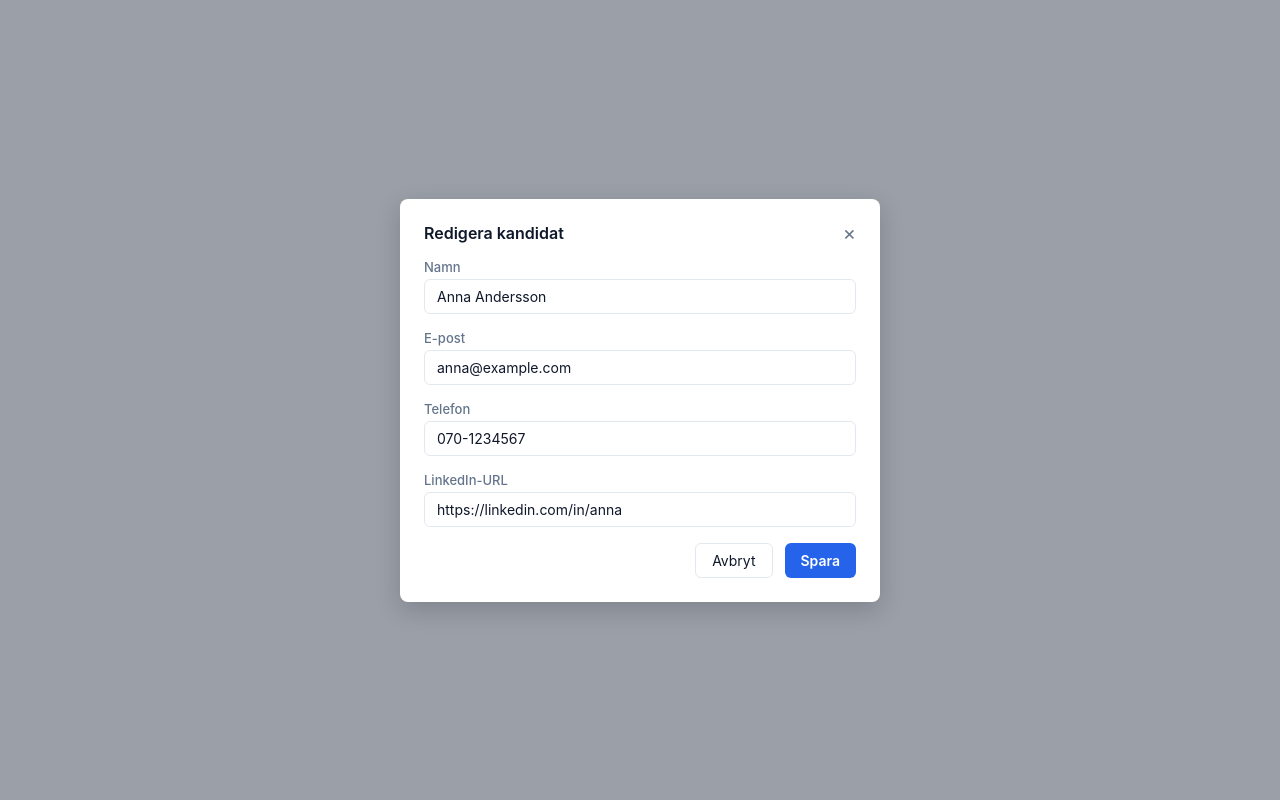
Test: EditCandidateModal › shows an inline error and keeps the modal open on failure
The width and height of the screenshot is (1280, 800).
Click the button "Spara" at (820,560), box [784,542,856,578]
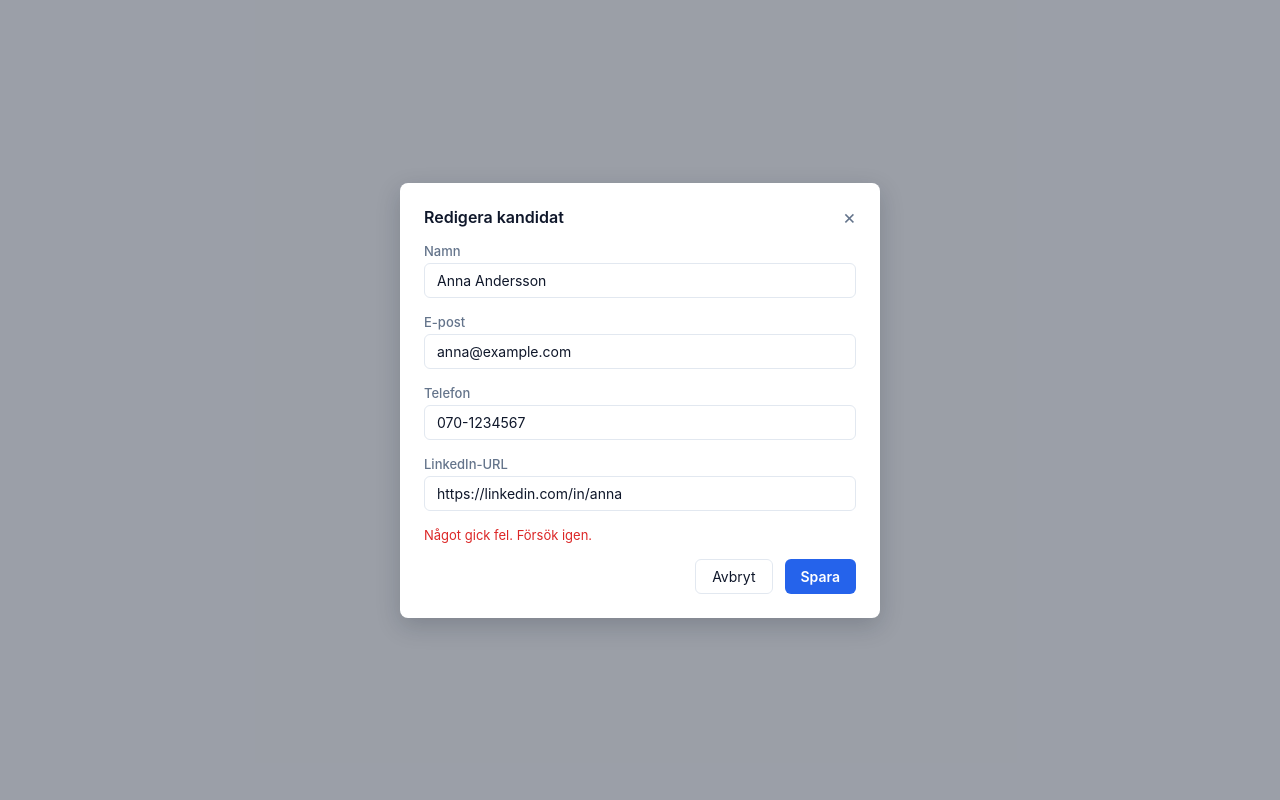
expect the message reads "Något gick fel. Försök igen.": met, box [424,526,592,542]
